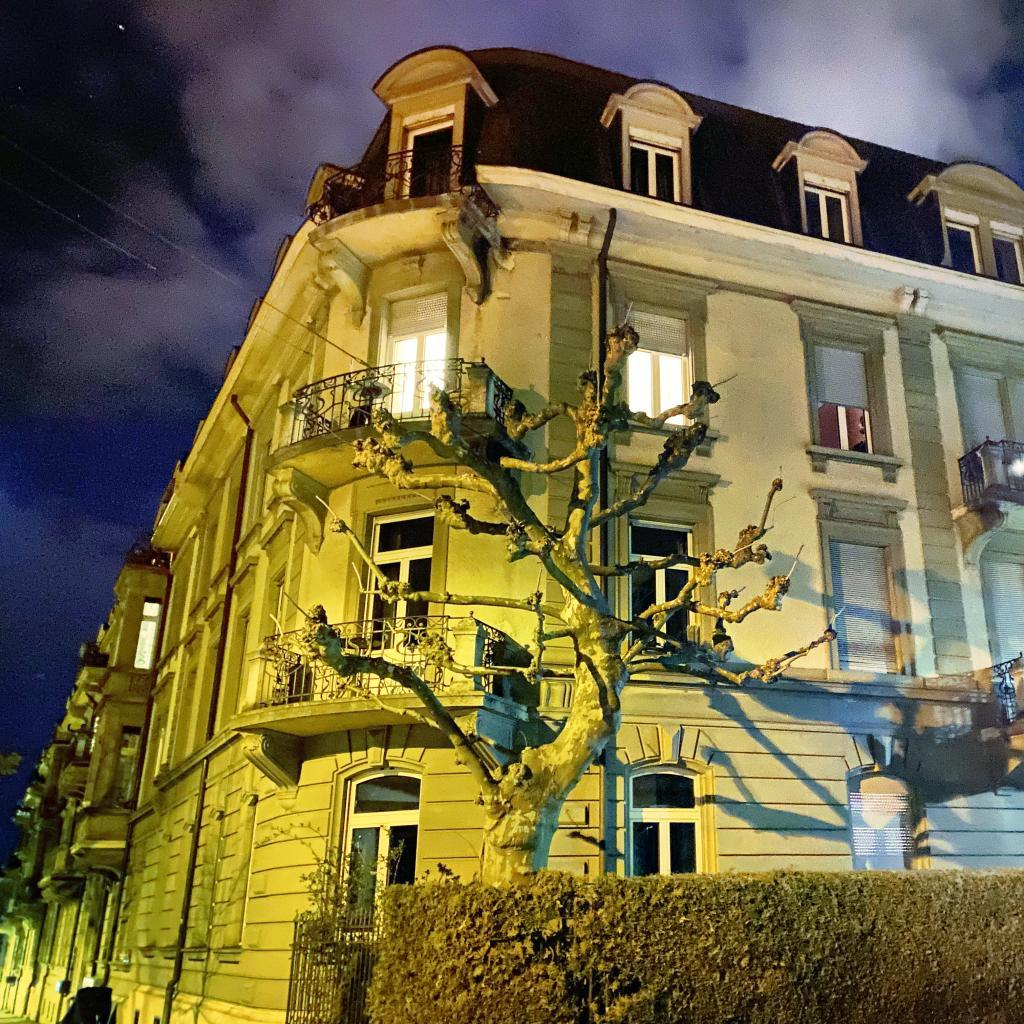balcony-fence: (259, 615, 507, 707), (288, 358, 514, 445), (305, 143, 482, 227), (958, 439, 1024, 502), (994, 655, 1024, 726)
facade: (0, 43, 1024, 1024)
non-building-infrastructure: (63, 988, 112, 1024)
vegetation: (261, 320, 1024, 1024), (1, 753, 22, 778)
window: (336, 769, 421, 931), (366, 506, 436, 648), (830, 539, 900, 672), (629, 518, 692, 655), (627, 766, 704, 876), (626, 302, 694, 425), (385, 288, 448, 412), (848, 772, 920, 870), (813, 342, 875, 453), (954, 372, 1013, 458), (402, 116, 453, 199), (983, 562, 1024, 664), (628, 138, 684, 204), (805, 182, 853, 243), (113, 727, 141, 808), (946, 220, 985, 275), (134, 598, 161, 669), (992, 232, 1024, 287)
